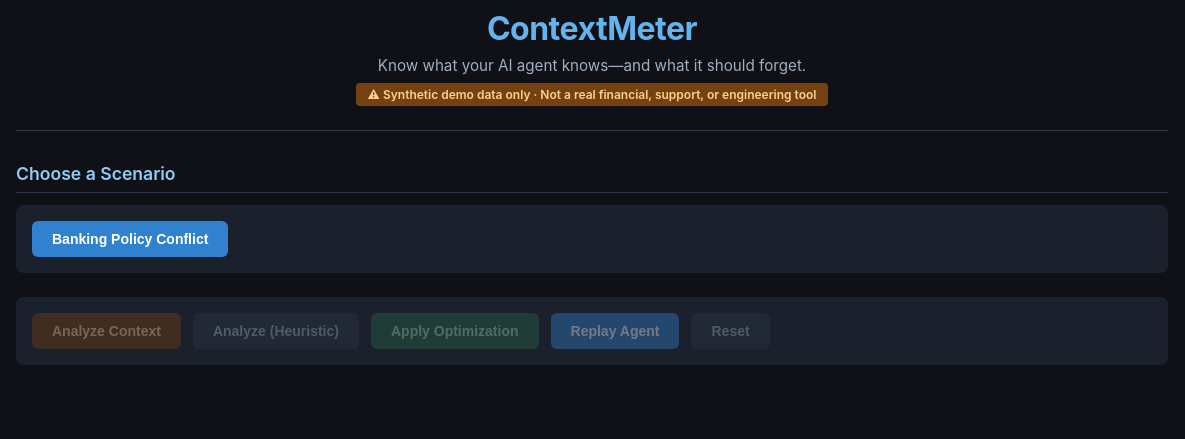
it: App workflow › handles API errors gracefully
Click the button "Banking Policy Conflict".
click(130, 239)  # box x1=32 y1=221 x2=228 y2=257
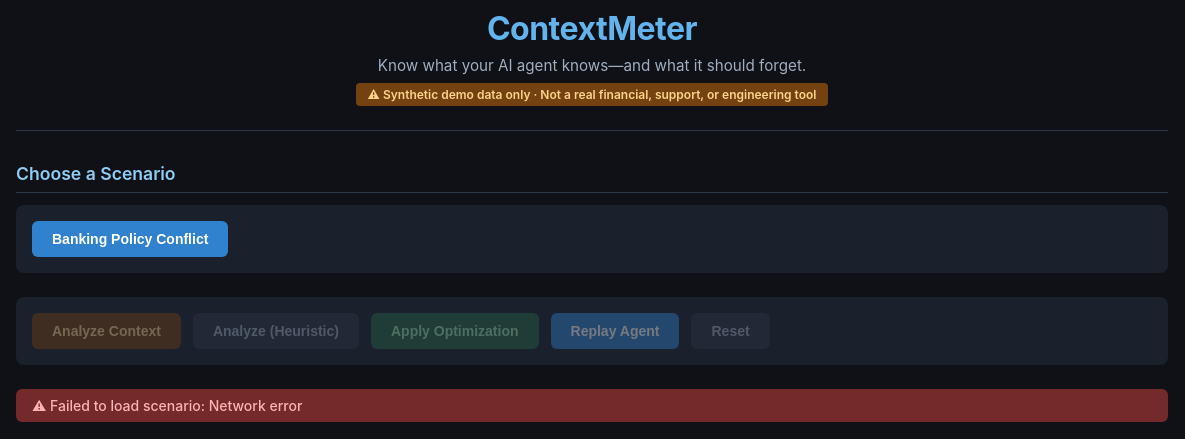
Expected: the text "⚠ Failed to load scenario: Network error" is shown, x1=16 y1=389 x2=1168 y2=422
